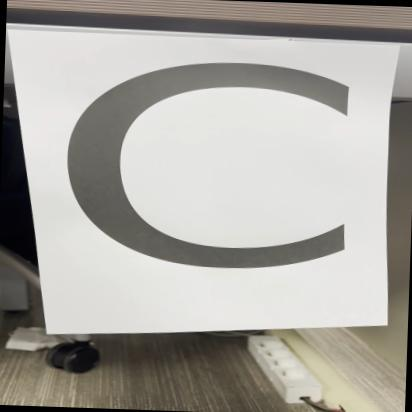seat: (1, 14, 410, 340)
